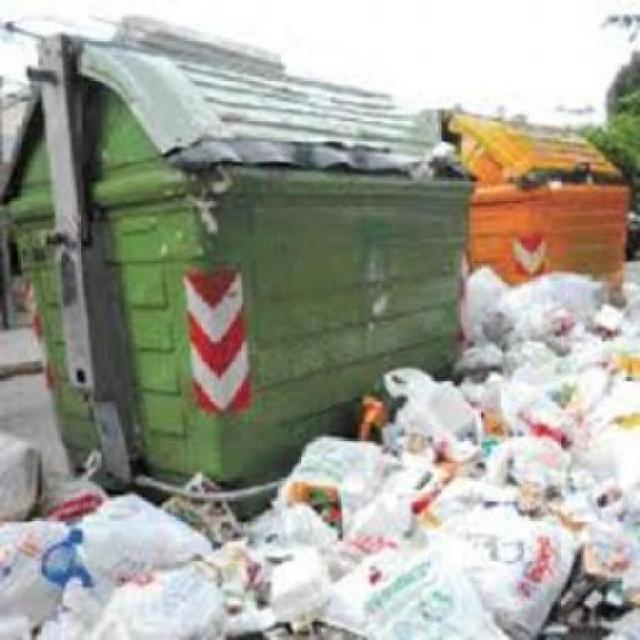garbage: (465, 260, 640, 640), (152, 503, 433, 640), (285, 374, 494, 520), (0, 495, 152, 639), (0, 424, 35, 571)
